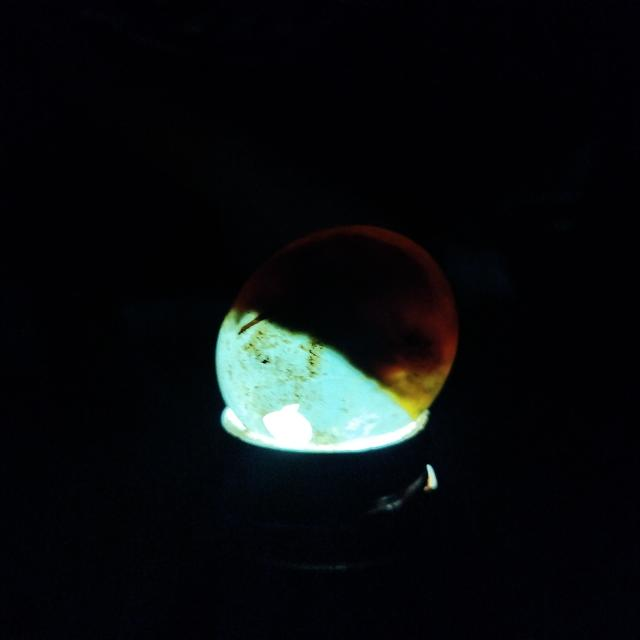Area Infectada: (228, 234, 444, 390)
